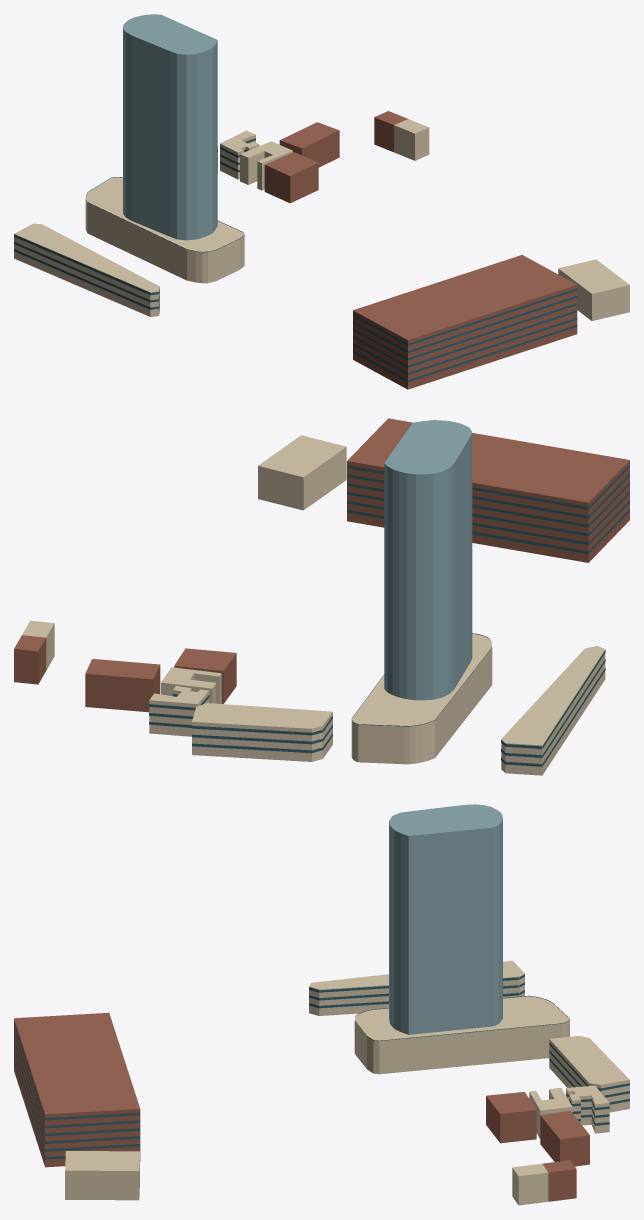
The model's file is city_-3_-4.glb.
3 views of the same model, one above another, from view 1: azimuth 30°, elevation 25°; view 2: azimuth 150°, elevation 25°; view 3: azimuth 270°, elevation 25° (orthographic). The views are drawn at different scales.
Parts seen in each view (by area): view 1: city_-3_-4; view 2: city_-3_-4; view 3: city_-3_-4.
Part boxes in pixels (bbox=[...]): city_-3_-4: bbox=[14, 14, 629, 389]; city_-3_-4: bbox=[14, 418, 629, 775]; city_-3_-4: bbox=[14, 804, 629, 1205].
Size of the model in its own units: 240 by 119 by 286.
